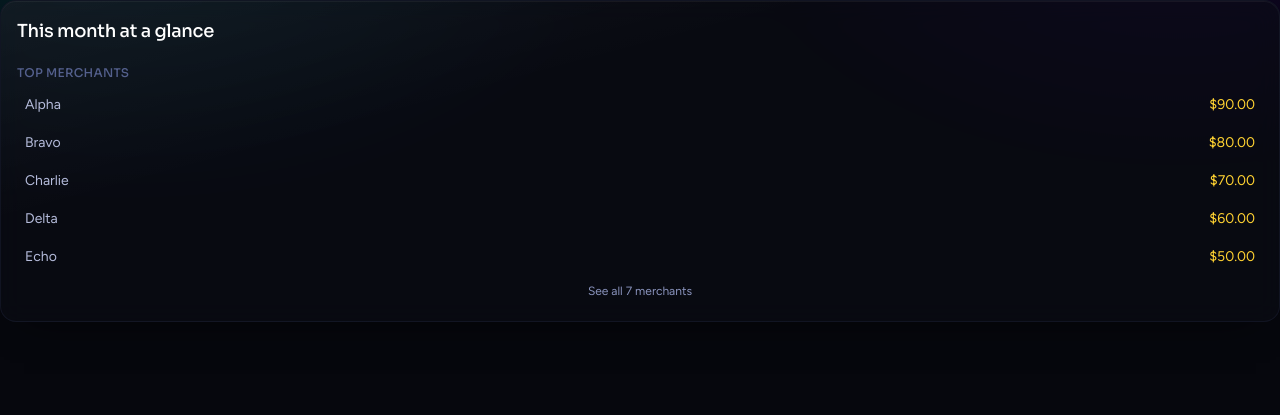
Test: BudgetInsights top merchants › collapses back to the top 5 with Show less
Click the button "See all 7 merchants" at (640, 291), box [17,277,1263,305]
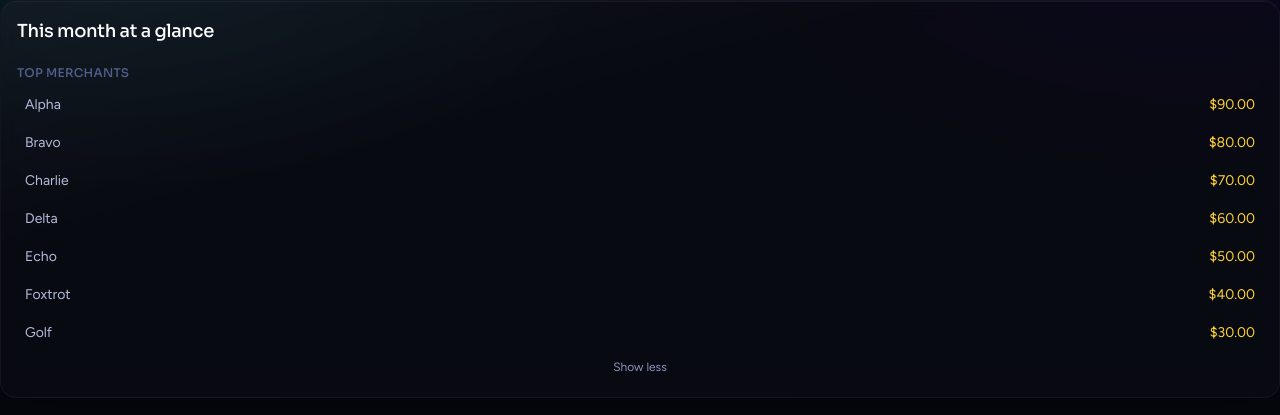
Expected: the text "Foxtrot" is shown, [25,285,71,305]
Click the button with aria-label "Show top merchants only" at (640, 367), box [17,353,1263,381]
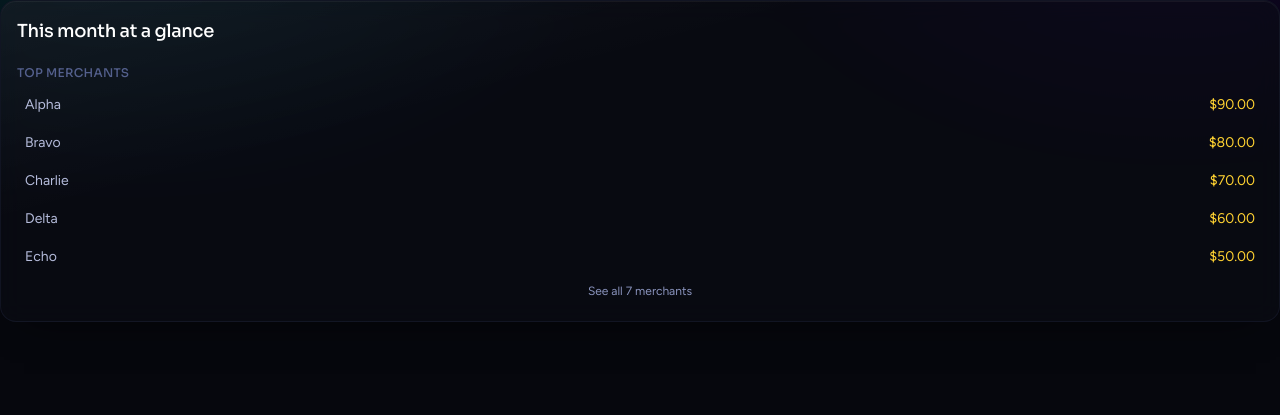
Expected: the button "Foxtrot" is gone
Expected: the button "See all 7 merchants" is shown, [17,277,1263,305]
